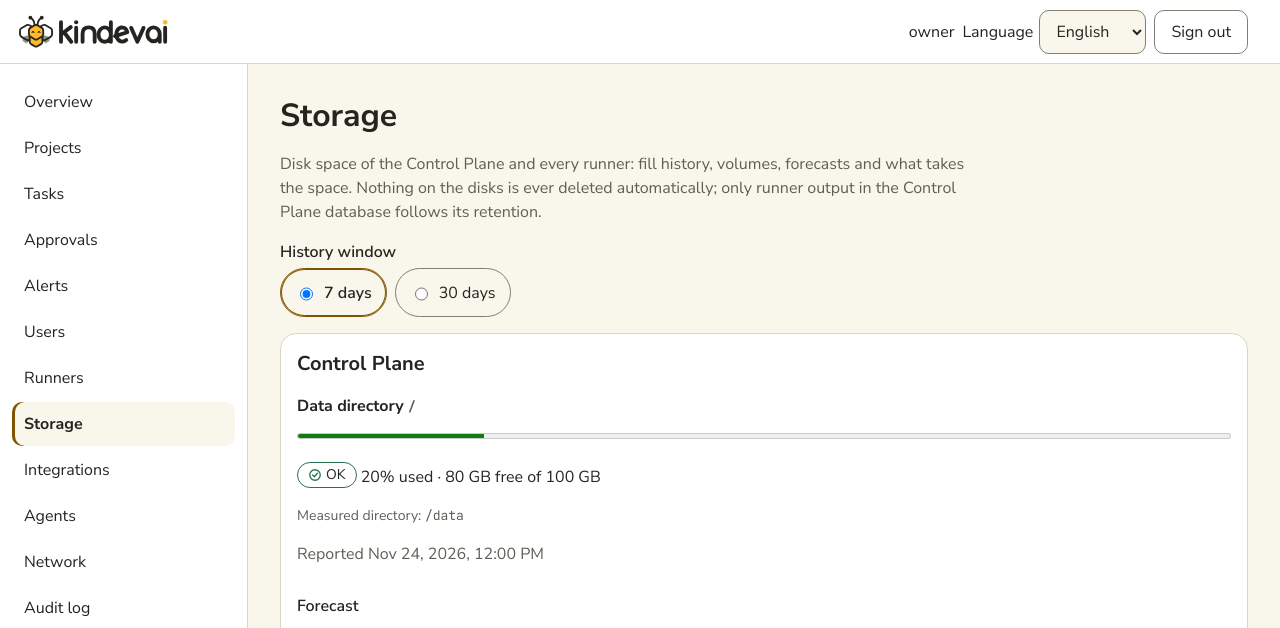
Test case: Infrastructure → Storage page › switches the history window to 30 days
Click the radio button labelled "30 days" at [421, 294], box [415,272,428,316]
(page scrolled)
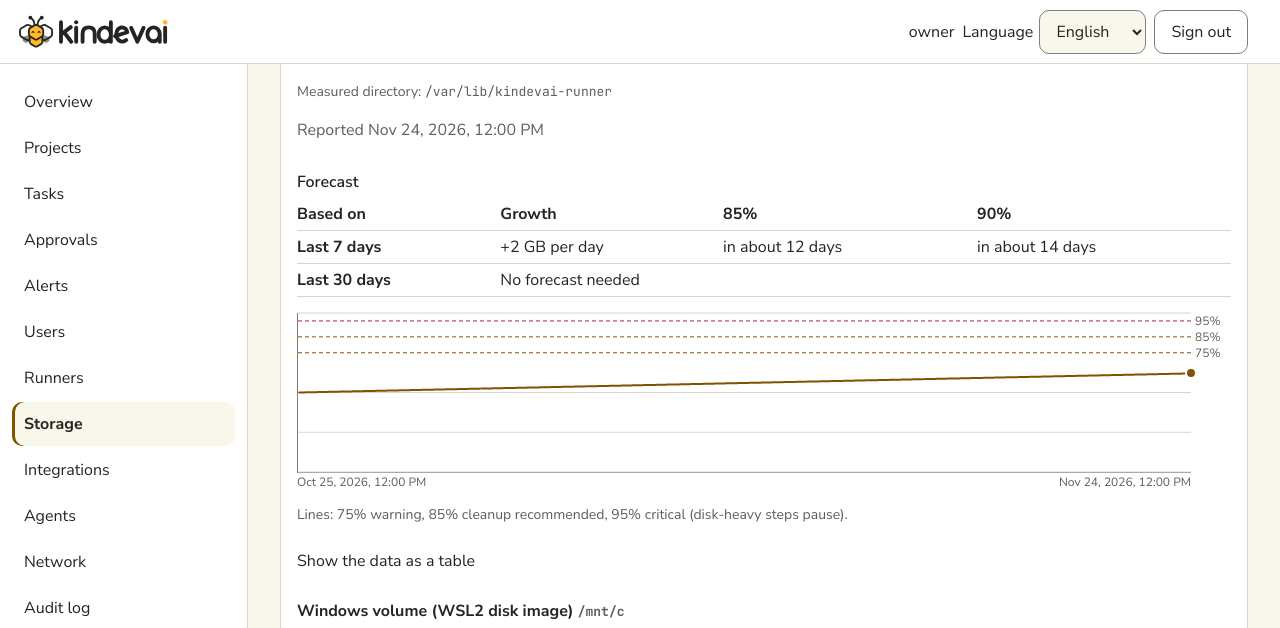
Result: the picture named "last 30 days" is shown at [298,313,1191,472]
